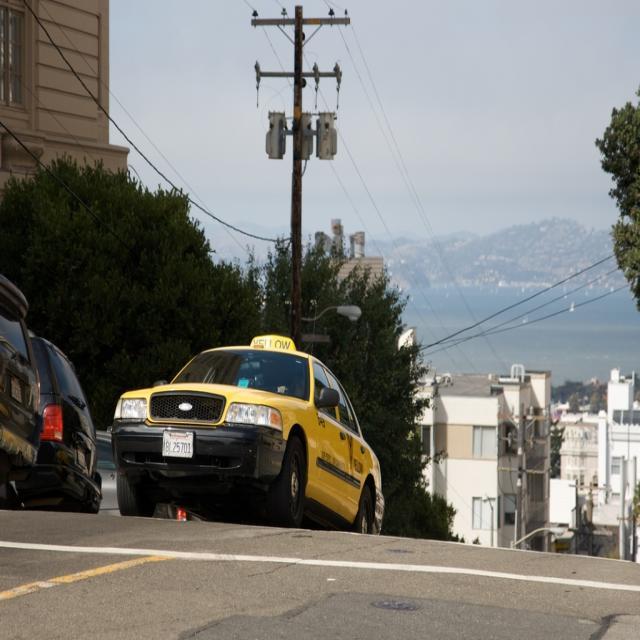car: (102, 336, 386, 530)
